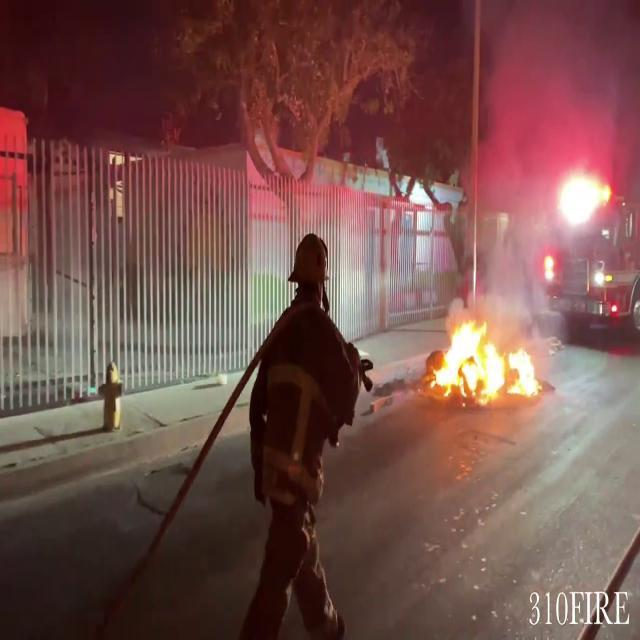Fire: (427, 308, 543, 404)
Smoke: (457, 2, 565, 323)
